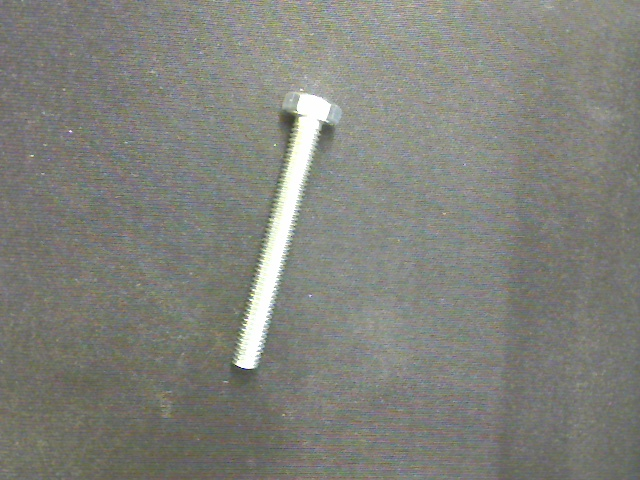Screw: (231, 91, 341, 370)
